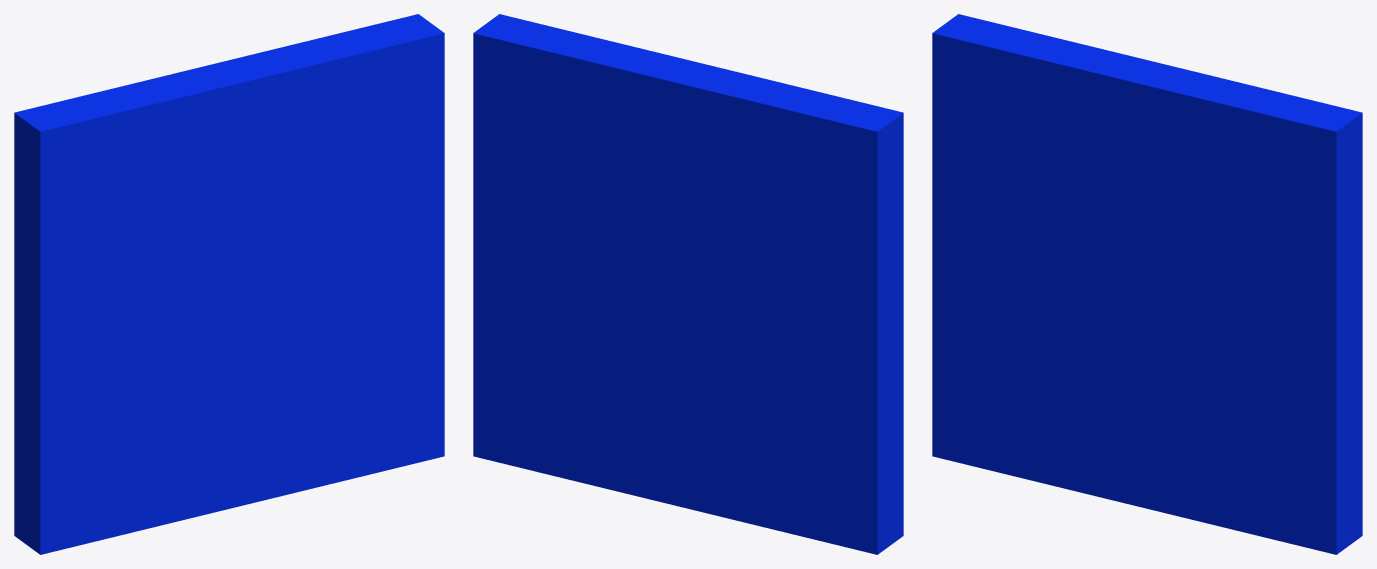
3 views of the same model, side by side, from view 1: azimuth 30°, elevation 25°; view 2: azimuth 150°, elevation 25°; view 3: azimuth 330°, elevation 25° (orthographic).
Visible parts, largest first — view 1: Box 1; view 2: Box 1; view 3: Box 1.
Part boxes in pixels (<box>): Box 1: <box>14,14,444,554</box>; Box 1: <box>473,14,903,554</box>; Box 1: <box>932,14,1362,554</box>.
Size of the model in its own units: 0.1 by 0.1 by 0.0113.
